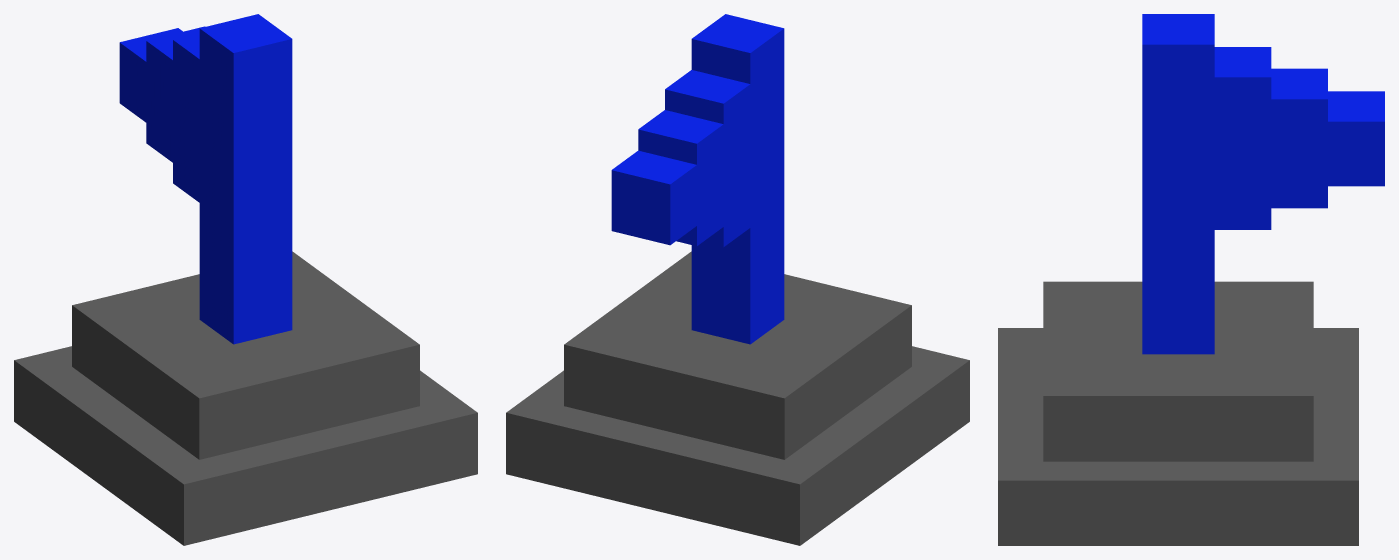
Rendered from flag.FBX.
3 renders of one model, left to right at view 1: azimuth 30°, elevation 25°; view 2: azimuth 150°, elevation 25°; view 3: azimuth 270°, elevation 25°, orthographic. The views are drawn at different scales.
Parts seen in each view (by area): view 1: Box001, Blue; view 2: Box001, Blue; view 3: Box001, Blue.
Part boxes in pixels (left/top/right/bottom): Box001: left=14, top=251, right=477, bottom=545; Blue: left=119, top=14, right=292, bottom=344; Box001: left=506, top=251, right=969, bottom=545; Blue: left=611, top=14, right=784, bottom=344; Box001: left=998, top=281, right=1358, bottom=545; Blue: left=1142, top=14, right=1384, bottom=354.
Bounding box in the file's own units: 15 × 20.2 × 16.08.
